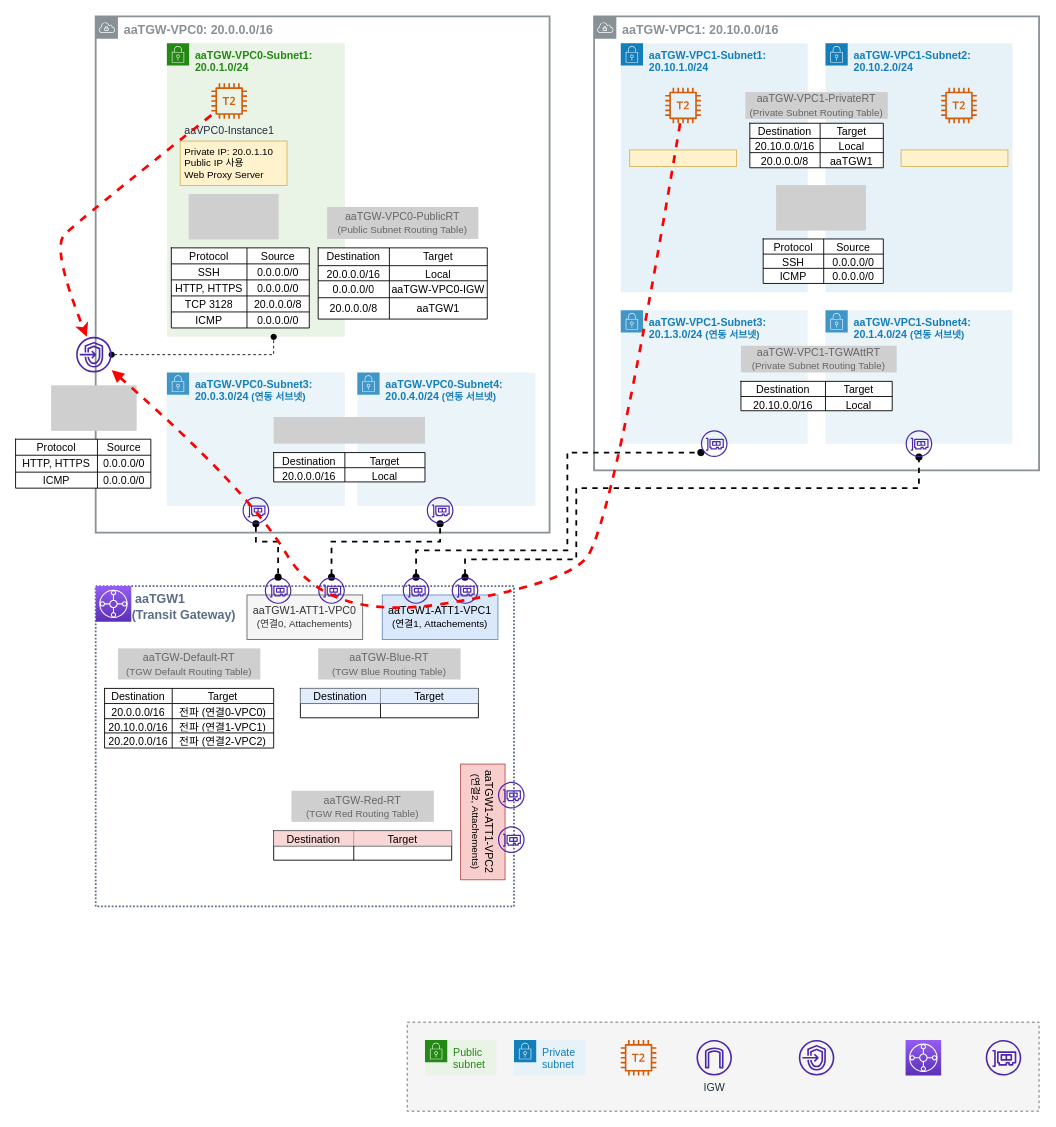
Some shapes in this 1056 by 1127 pixel diagram are drawn without their labels. Each missing label, with the centre of its shape:
aaTGW-VPC0-TGWAttRT (Private Subnet Routing Table): point 349,430
aaVPC0SG1 (Security Group, Inbound Rule): point 233,216
aaVPC0SG2 (Security Group, Inbound Rule): point 93,407
aaVPC1-Instance1: point 682,105
aaVPC1-Instance2: point 958,105
aaVPC1SG1 (Security Group, Inbound Rule): point 821,207
Attachments: point 1003,1057
EC2: point 638,1057
Interface Endpoint (CloudFormation Endpoint): point 816,1057
Private IP: 20.10.1.10: point 682,157
Private IP: 20.10.2.10: point 954,157
Transit Gateway: point 923,1057
